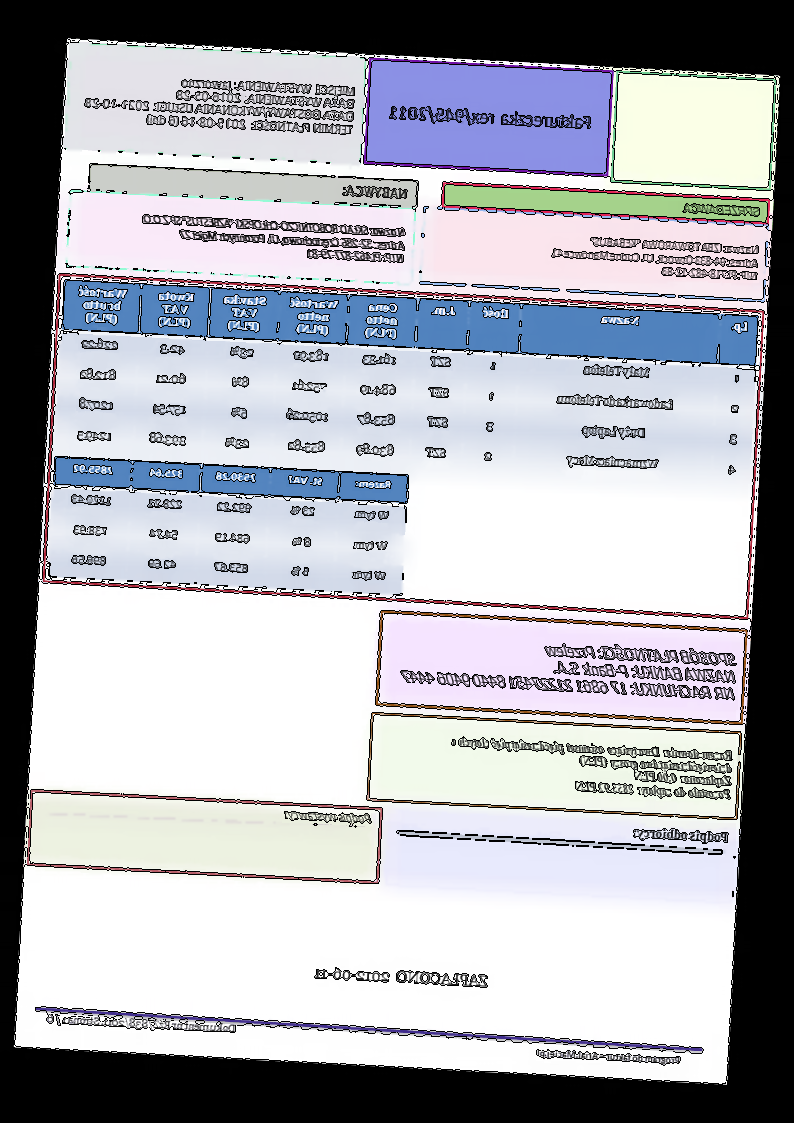Table: (55, 278, 761, 490), (47, 455, 410, 597)
TextBox: (399, 633, 738, 705), (447, 733, 736, 802), (82, 70, 358, 139), (139, 211, 409, 266), (549, 231, 763, 283), (387, 102, 595, 135), (44, 1010, 238, 1038), (313, 964, 493, 990), (535, 1046, 683, 1066), (630, 825, 731, 846), (284, 807, 374, 827), (679, 199, 764, 220), (341, 181, 410, 202)
